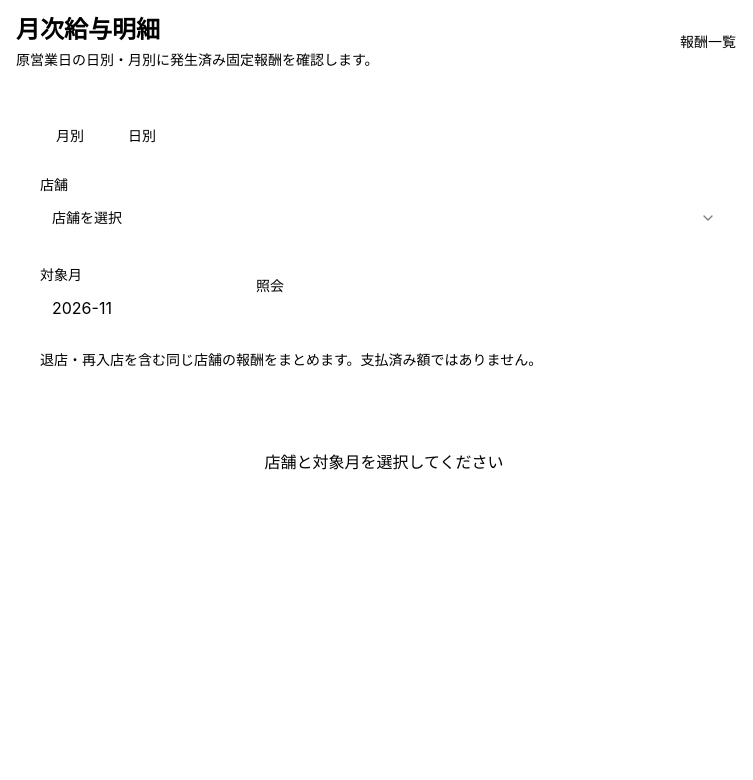
Scenario: 空月は金額ゼロと説明を返し不可視の店舗は戻り先を示す
Click the dropdown labelled "店舗".
click(87, 218)  # box [40, 200, 728, 236]
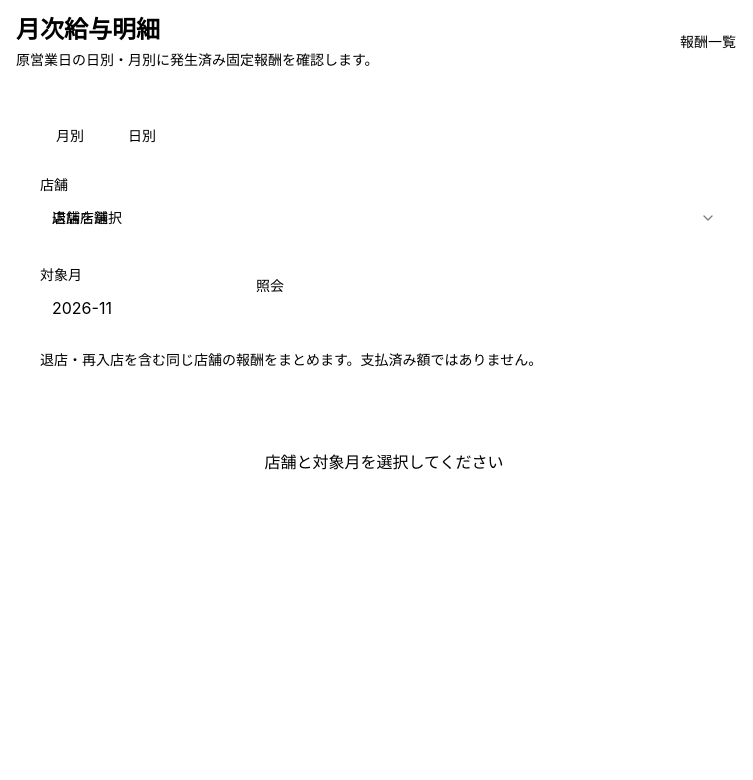
Click the option "退店店舗".
click(80, 218)  # box [52, 209, 108, 226]
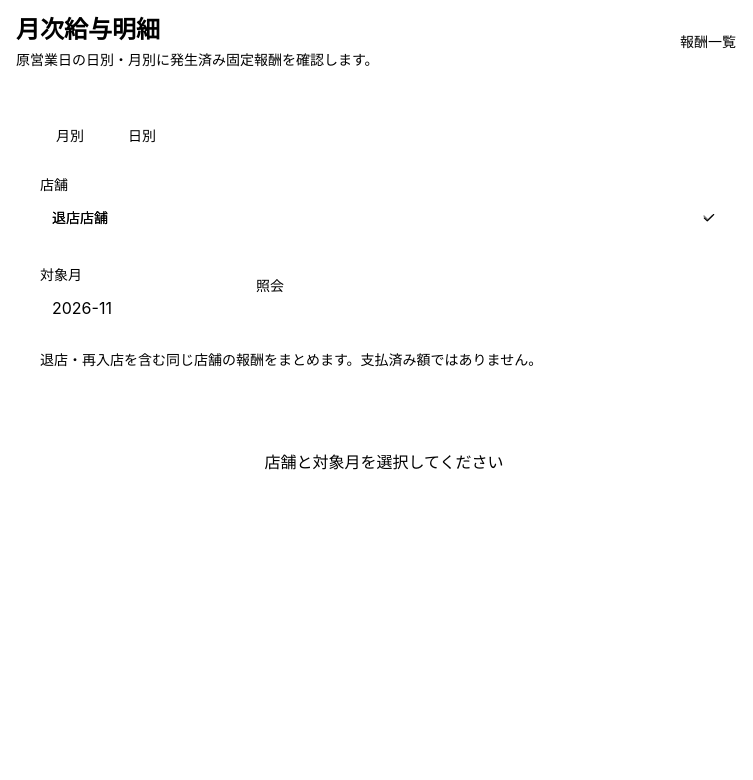
Replace the text in the field labelled "対象月" with "2026-09" at (128, 308), box [40, 290, 216, 326]
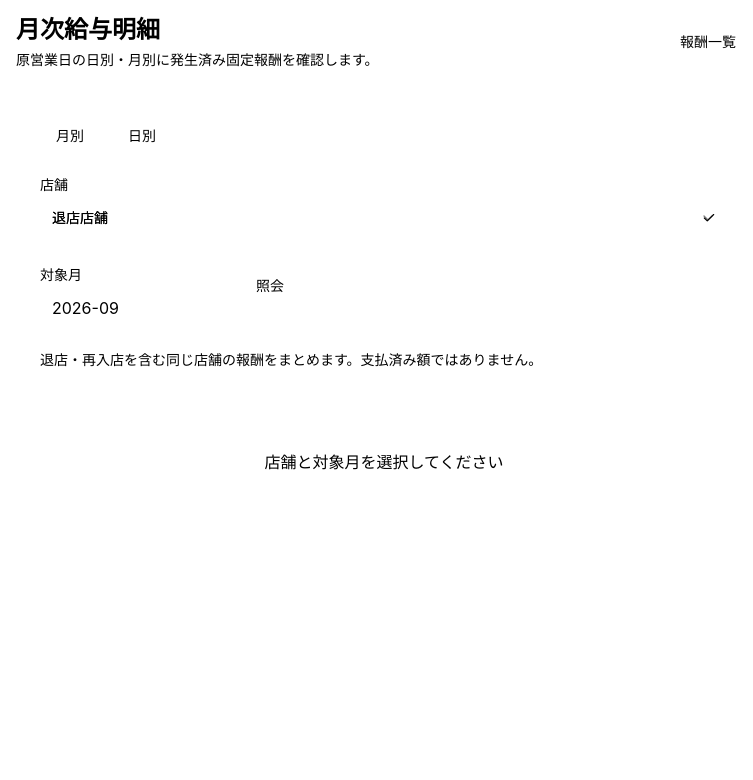
Click the button "照会".
click(270, 286)  # box [240, 268, 300, 304]
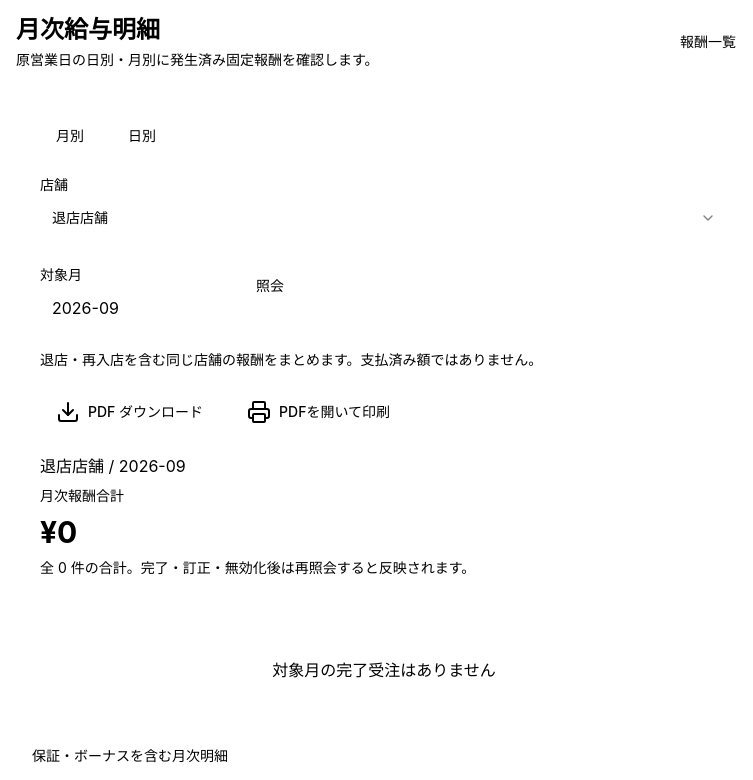
Now the text named "月次報酬合計" reads "¥0", box [40, 514, 77, 550]
Now the text "対象月の完了受注はありません" is shown, box [272, 660, 496, 680]
Click the button "照会".
click(270, 286)  # box [240, 268, 300, 304]
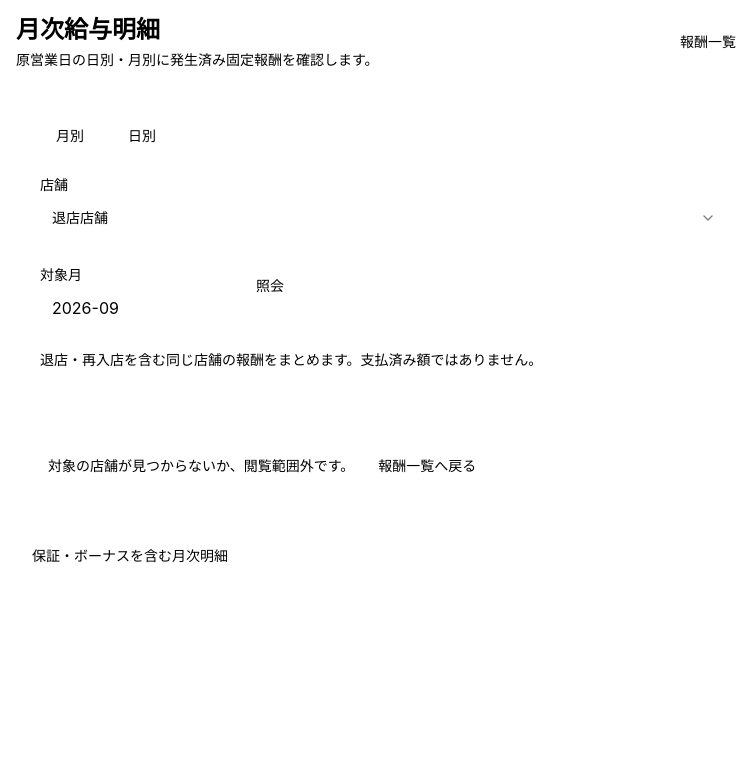
Now the text "対象の店舗が見つからないか、閲覧範囲外です。" is shown, box [48, 456, 354, 476]
